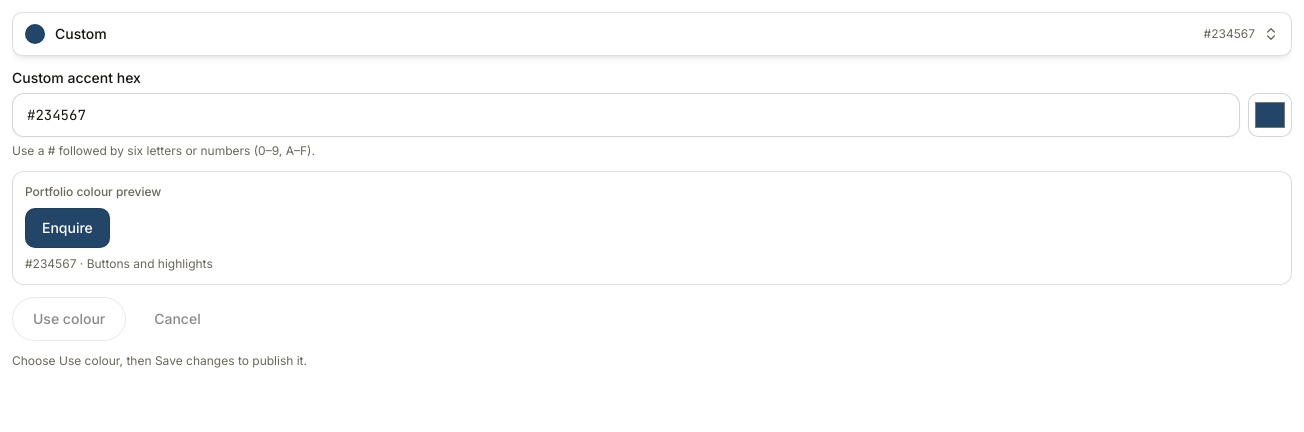
Test: PortfolioAccentColor › adds Tickif green alongside the eight presets and replaces a draft with a preset
Click the button with aria-label "Accent colour preset" at (81, 34), box [12,12,1292,56]
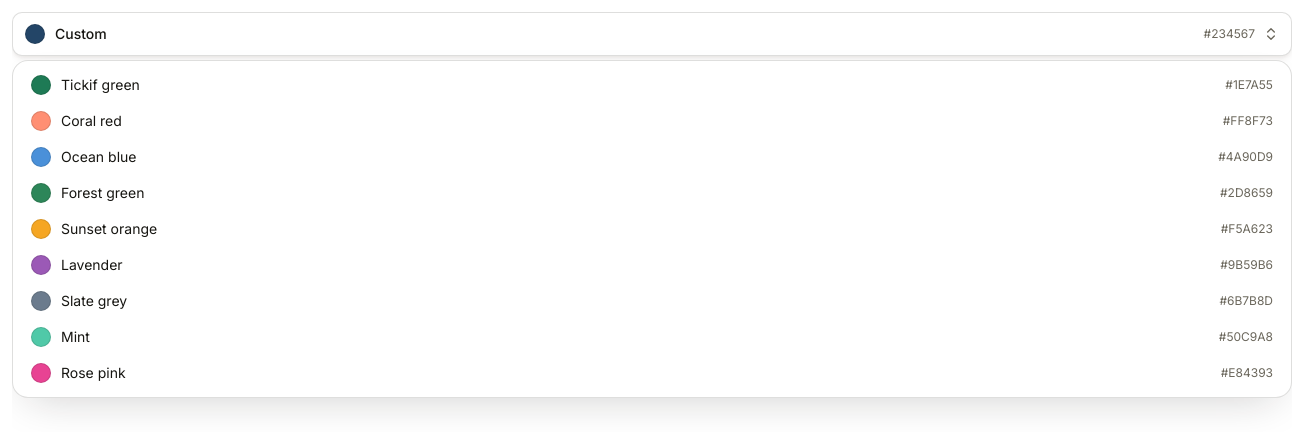
expect the number of menu items is 9: met
expect the menu item "Tickif green #1E7A55" is shown: met, box [31,75,1273,95]
Click the menu item "Forest green #2D8659" at (103, 192), box [31,183,1273,203]
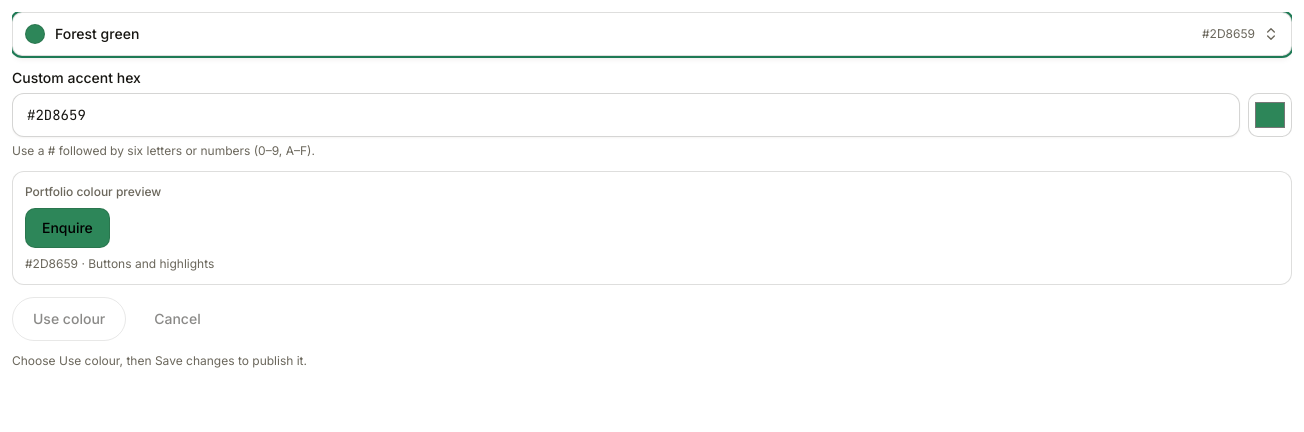
expect the field labelled "Custom accent hex" holds "#2D8659": met
Replace the text in the field labelled "Custom accent hex" with "#ABCDEF" at (626, 115), box [12,93,1240,137]
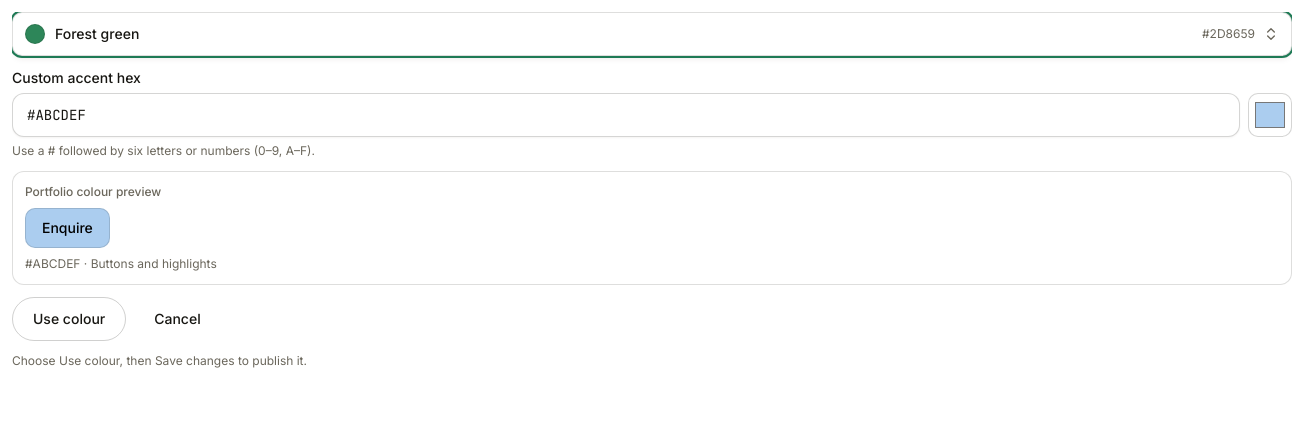
Click the button with aria-label "Accent colour preset" at (97, 34), box [12,12,1292,56]
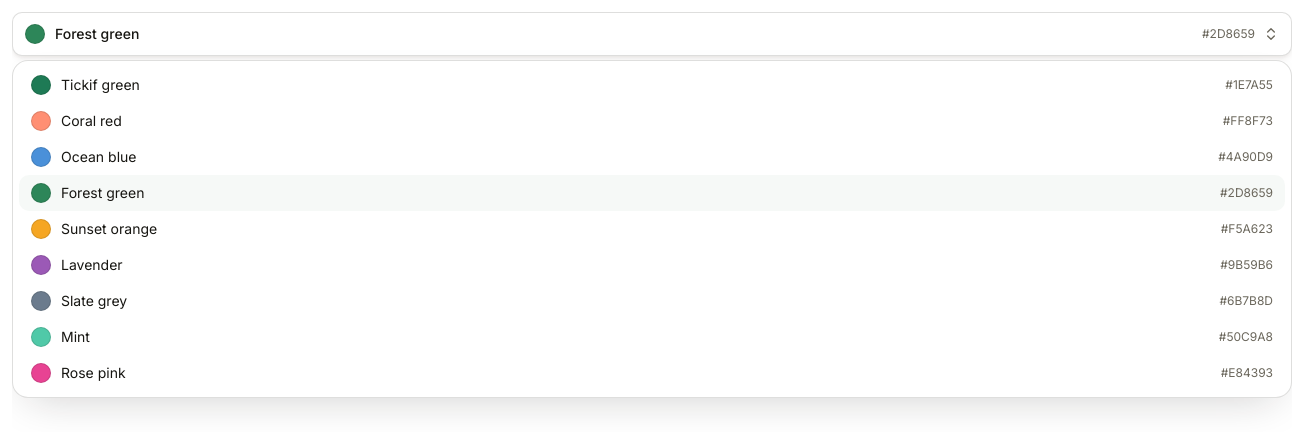
Click the menu item "Forest green #2D8659" at (103, 192), box [19,175,1285,211]
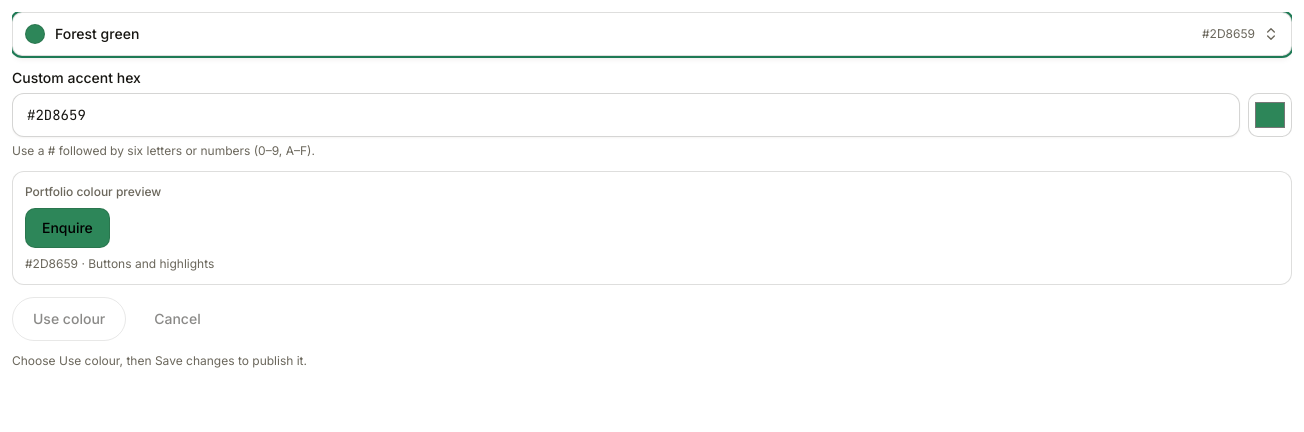
expect the text "#2D8659" is shown: met, box [1202,26,1255,42]
expect the field labelled "Custom accent hex" holds "#2D8659": met, box [12,93,1240,137]
